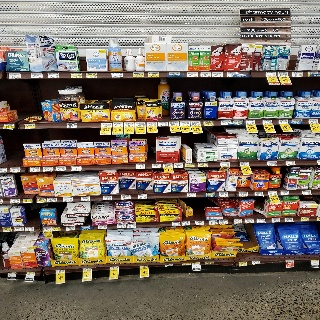All PRICE TAGS: (70, 72, 82, 77), (30, 73, 42, 78), (4, 123, 14, 129), (308, 71, 318, 77), (66, 123, 77, 128), (212, 72, 223, 77), (133, 72, 144, 77), (112, 72, 123, 77), (86, 72, 97, 77), (48, 73, 59, 78), (9, 73, 20, 78), (292, 72, 303, 77), (148, 72, 159, 77), (168, 72, 181, 76), (267, 161, 277, 166), (227, 72, 237, 77), (187, 72, 197, 77), (169, 121, 179, 126), (72, 166, 82, 171), (10, 167, 20, 172), (286, 161, 296, 166), (24, 124, 36, 128), (174, 163, 183, 168), (163, 163, 172, 168), (221, 120, 230, 125), (180, 121, 189, 126), (201, 72, 210, 77), (209, 220, 218, 225), (23, 198, 32, 203), (37, 198, 46, 203), (2, 227, 11, 232), (302, 190, 311, 195), (81, 196, 90, 201), (103, 195, 112, 200), (135, 164, 146, 168), (203, 121, 214, 125), (55, 270, 66, 274), (252, 260, 260, 265), (109, 266, 119, 270), (82, 268, 92, 272), (220, 162, 230, 166), (198, 163, 208, 167), (43, 167, 53, 171), (233, 120, 243, 124), (190, 121, 200, 125), (135, 122, 145, 126), (102, 123, 112, 127), (278, 72, 288, 76), (266, 72, 276, 76), (257, 218, 265, 223), (234, 219, 242, 224), (182, 221, 190, 226), (280, 191, 290, 195), (10, 199, 20, 203), (308, 119, 318, 123), (63, 197, 73, 201), (240, 162, 249, 166), (185, 163, 194, 167), (152, 164, 161, 168), (30, 167, 39, 171), (279, 120, 288, 124), (263, 120, 272, 124), (246, 120, 255, 124), (159, 122, 168, 126), (147, 122, 156, 126), (125, 123, 134, 127), (245, 219, 254, 223), (219, 220, 228, 224), (171, 222, 180, 226), (98, 225, 107, 229), (268, 191, 277, 195), (239, 192, 248, 196), (219, 192, 228, 196), (206, 192, 215, 196), (138, 194, 147, 198), (56, 167, 65, 171), (14, 227, 23, 231), (25, 227, 34, 231), (26, 271, 35, 275), (292, 119, 301, 123), (48, 198, 57, 202), (121, 195, 130, 199), (239, 262, 247, 266), (192, 262, 200, 266), (272, 218, 280, 222), (196, 221, 204, 225), (128, 223, 136, 227), (44, 227, 52, 231), (255, 192, 263, 196), (187, 193, 195, 197), (285, 218, 293, 222), (301, 217, 309, 221), (113, 123, 123, 126), (183, 262, 190, 266), (141, 265, 148, 269), (118, 224, 125, 228), (53, 227, 60, 231), (66, 227, 75, 230), (1, 168, 6, 173), (165, 264, 174, 266), (205, 262, 213, 264)
